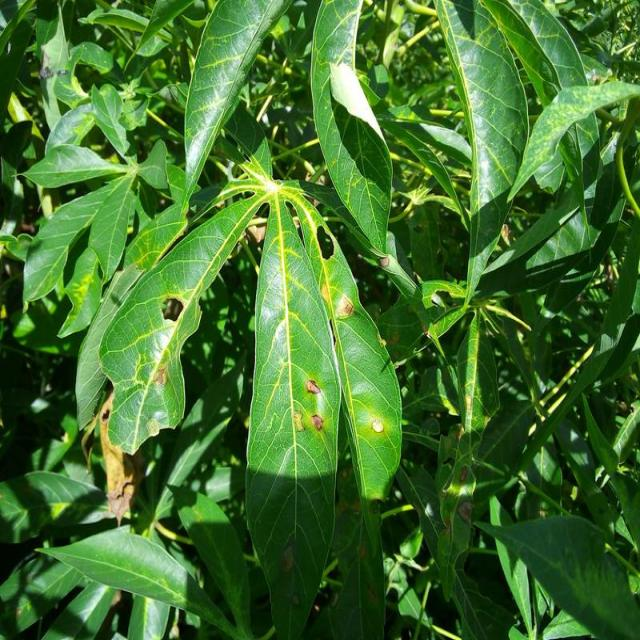cassava leaf: (244, 189, 342, 637), (310, 0, 392, 257)
